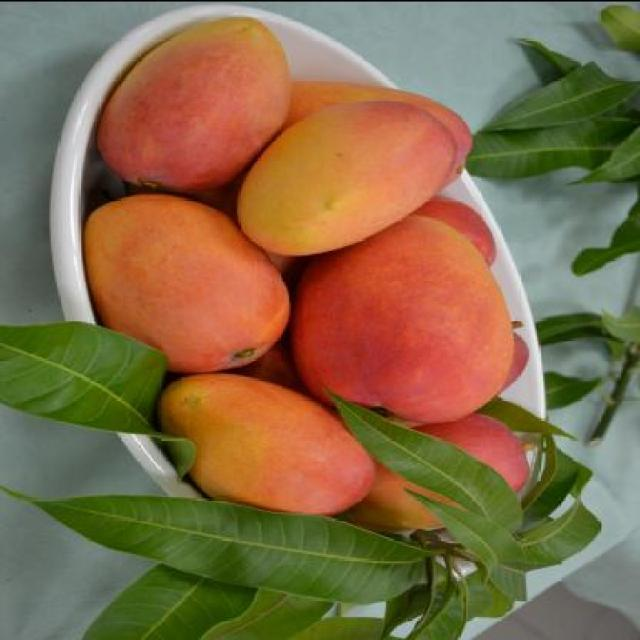Mango: (289, 208, 516, 426), (78, 194, 290, 376), (158, 366, 378, 531), (235, 96, 457, 254), (96, 18, 288, 194), (334, 413, 533, 532)
